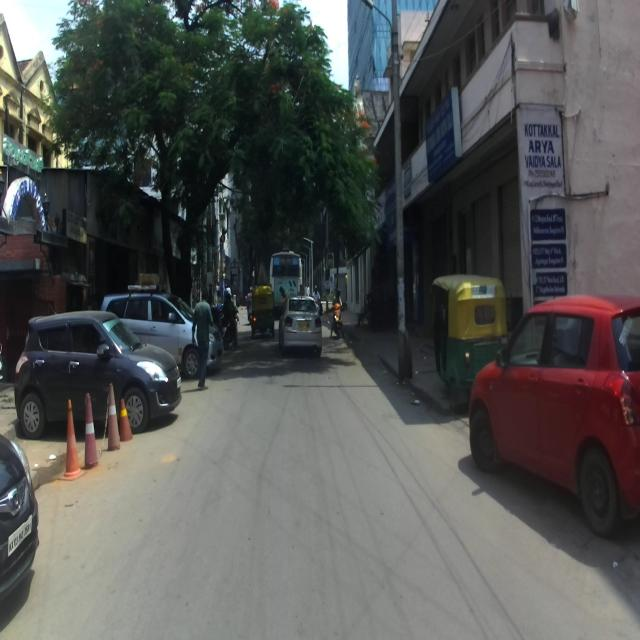autorickshaw: (431, 273, 509, 413)
car: (468, 294, 639, 538), (13, 307, 182, 433), (99, 283, 224, 379)
scooter: (331, 303, 343, 340)
